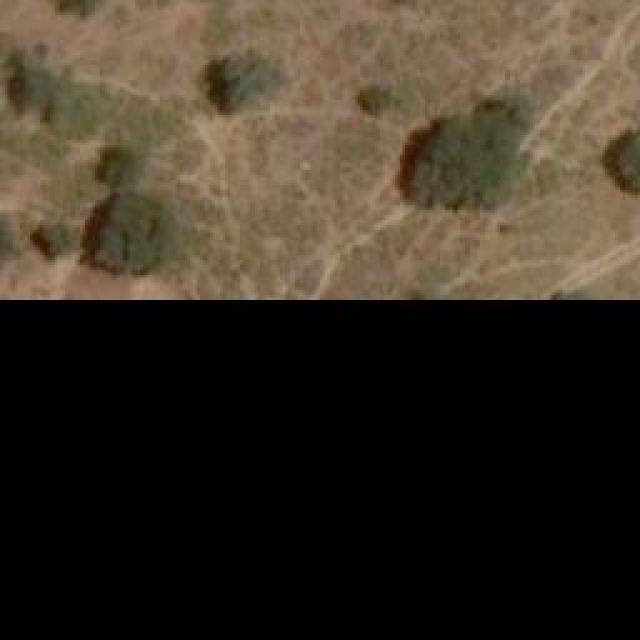Tree: (408, 87, 533, 215), (85, 195, 168, 275), (40, 83, 108, 137), (208, 52, 271, 110), (3, 58, 56, 114), (33, 212, 86, 259), (98, 145, 143, 185), (355, 83, 400, 120), (617, 127, 640, 194), (57, 0, 110, 21)
